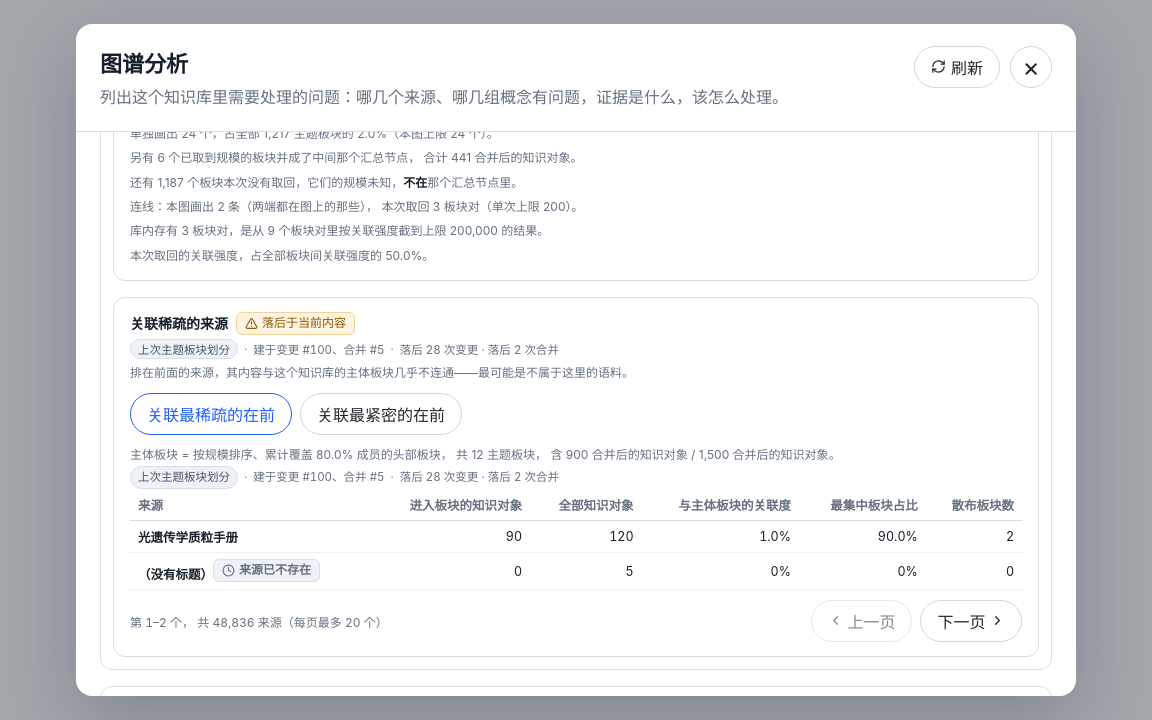
Scenario: 切排序时旧的行不会被标上新选的顺序——标注跟着数据走，不跟着控件走
The width and height of the screenshot is (1152, 720).
(page scrolled)
Expected: the heading "关联稀疏的来源" is shown, [130,314,228,334]
Click the button "关联最紧密的在前" at (381, 414), box [300,393,462,435]
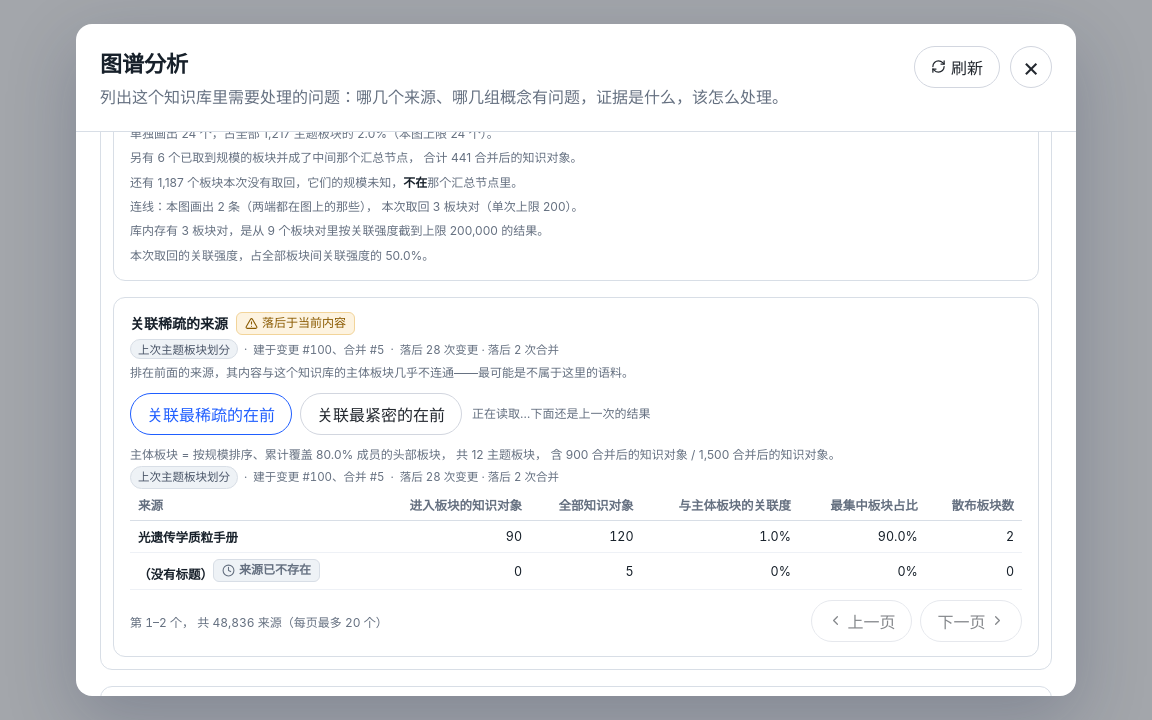
Expected: the text "光遗传学质粒手册" is shown, [138,527,238,546]
Now the text "正在读取…下面还是上一次的结果" is shown, box [472,404,650,424]
